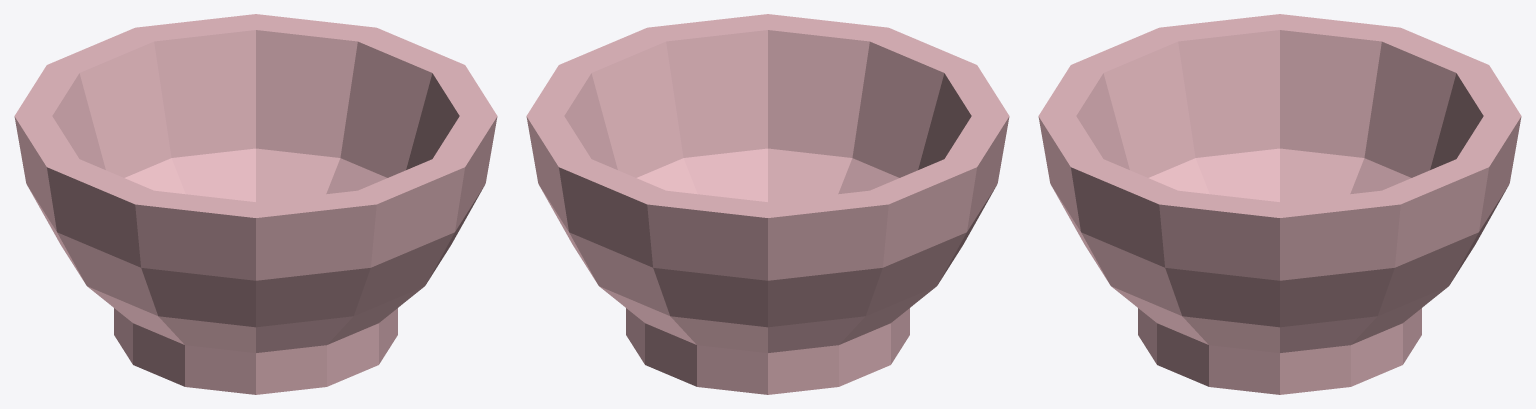
File: Mortar_Placeholder.glb
3 renders of one model, left to right at view 1: azimuth 30°, elevation 25°; view 2: azimuth 150°, elevation 25°; view 3: azimuth 270°, elevation 25°, orthographic.
Parts seen in each view (by area): view 1: Mortar_Placeholder; view 2: Mortar_Placeholder; view 3: Mortar_Placeholder.
Part boxes in pixels (box(x1,y1,x2,y2)): Mortar_Placeholder: box(14, 14, 497, 394); Mortar_Placeholder: box(526, 14, 1009, 394); Mortar_Placeholder: box(1038, 14, 1521, 394).
Bounding box in the file's own units: 0.3 × 0.15 × 0.3.
